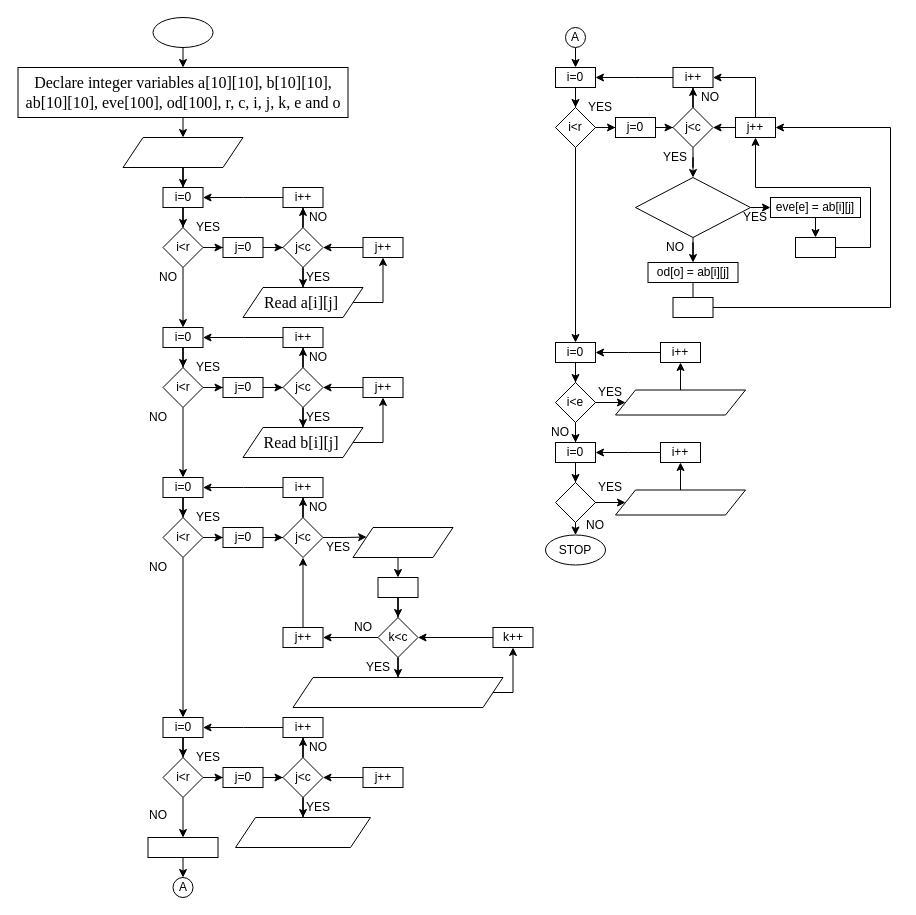
Image size: 916x915. Some labels were removed from this diagram. The centre of each missing label's shape, as x and y in pixels:
(ab[i][j] % 2) == 0: the point at 692,207
ab[i][j] += a[i][k] * b[k][j]: the point at 397,692
ab[i][j]=0: the point at 402,542
Display ab[i][j]: the point at 302,832
Display eve[i]: the point at 680,402
Display od[i]: the point at 680,502
e++: the point at 815,247
e=0 and o=0: the point at 182,847
i<o: the point at 575,502
k=0: the point at 397,587
o++: the point at 692,307
Read r and c: the point at 182,152
START: the point at 182,32
